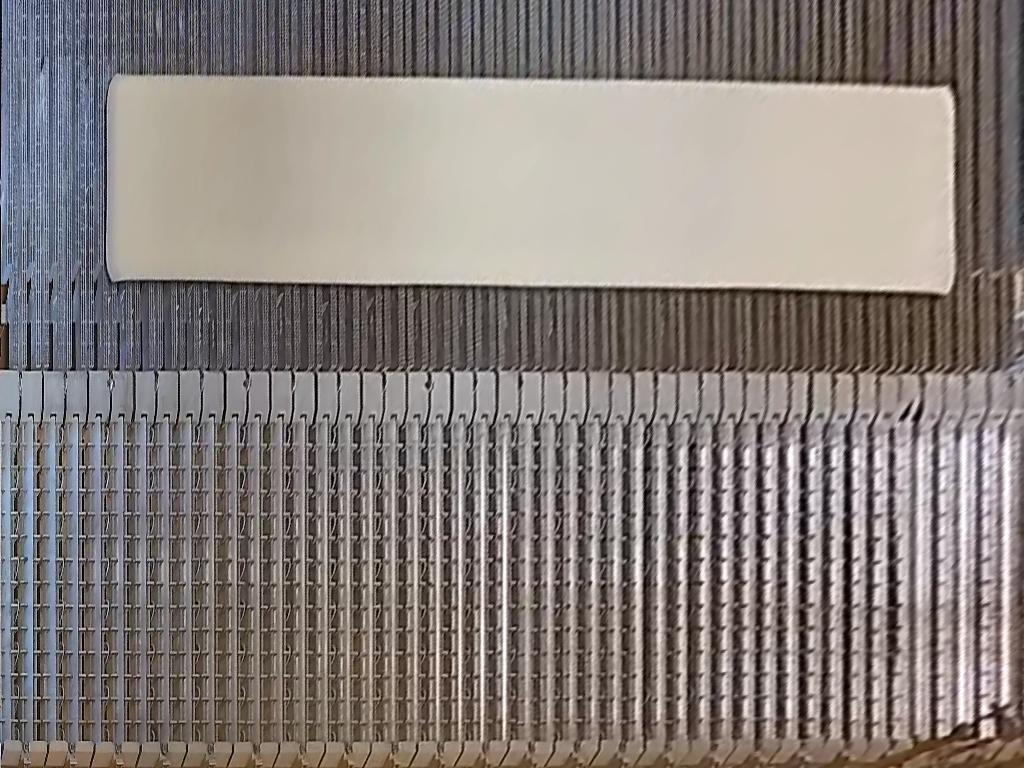steel: (105, 72, 958, 294)
